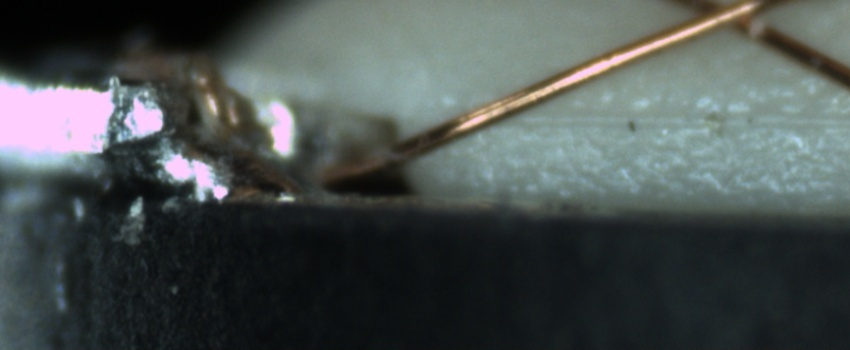CL: (663, 2, 784, 42)
DL: (517, 84, 850, 150)
TE: (185, 53, 248, 142)
